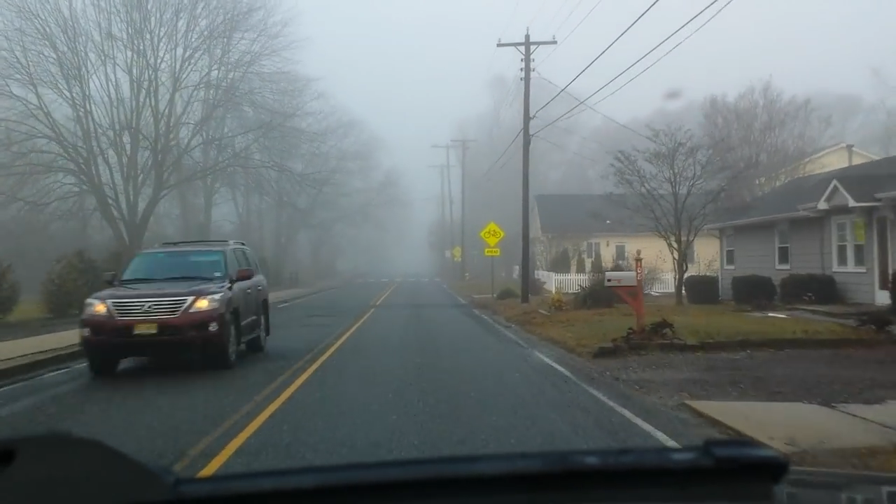car: (77, 235, 271, 381)
